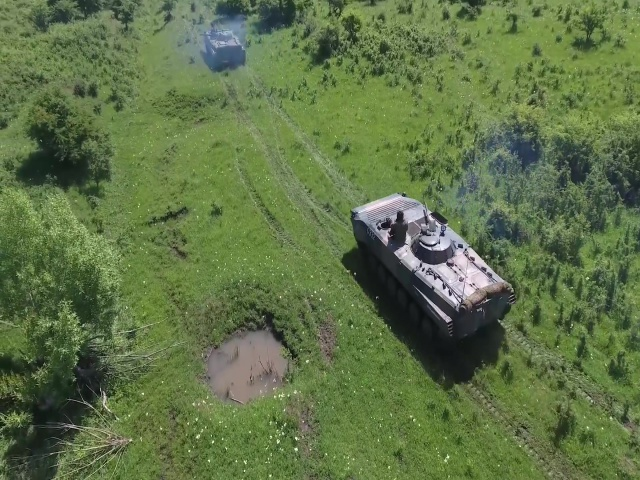vehicle: (348, 191, 517, 344), (203, 28, 247, 68)
